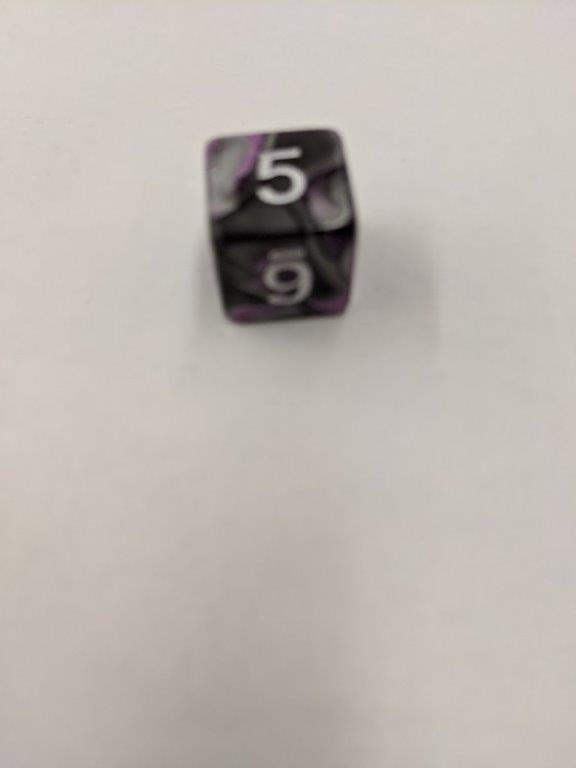d6-5: (204, 126, 356, 324)
